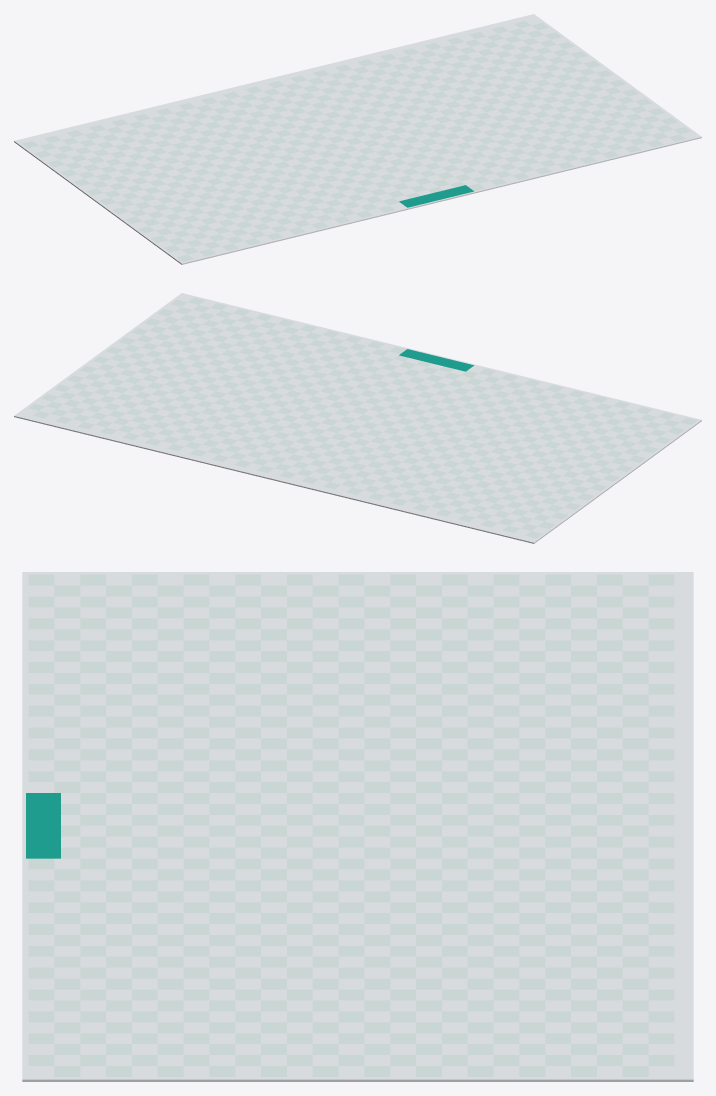
File: CM_Shell_Floor_MegaMart.fbx
The picture shows the model from 3 angles, top to bottom: view 1: azimuth 30°, elevation 25°; view 2: azimuth 150°, elevation 25°; view 3: azimuth 270°, elevation 25°; orthographic projection. The views are drawn at different scales.
Visible parts, largest first — view 1: Floor; view 2: Floor; view 3: Floor.
Part boxes in pixels (bbox=[...]): Floor: bbox=[14, 14, 701, 264]; Floor: bbox=[14, 293, 701, 543]; Floor: bbox=[22, 572, 693, 1081].
Size of the model in its own units: 186 by 104 by 0.402.
Materials: 1 (1 with a texture image).
